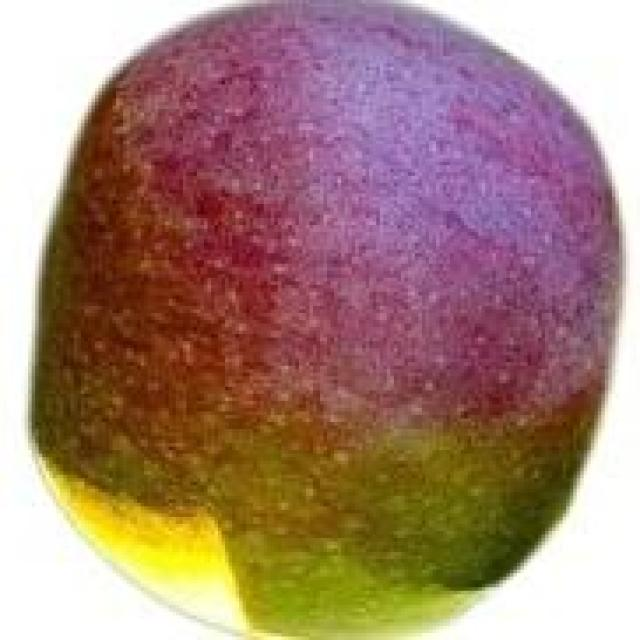Rotten Apple: (37, 0, 624, 640)
